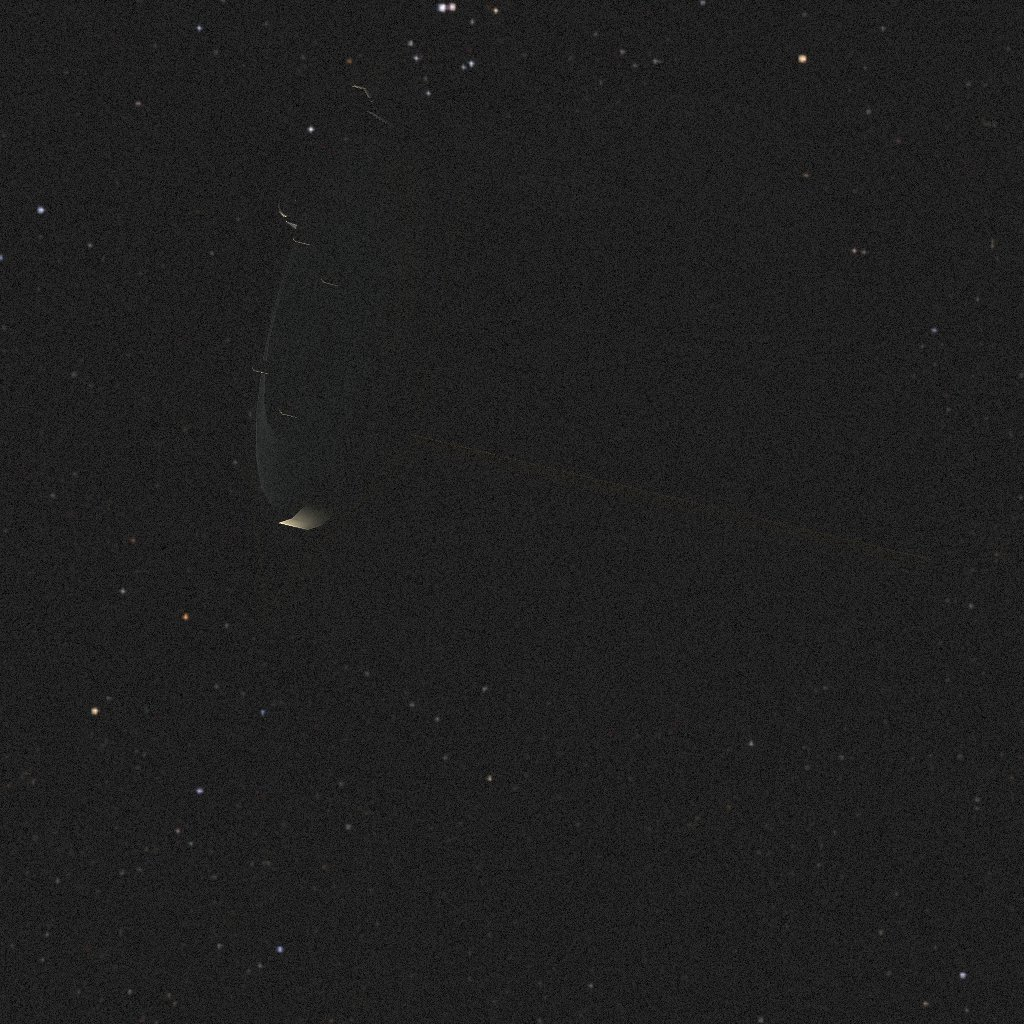cheops: (246, 49, 952, 738)
